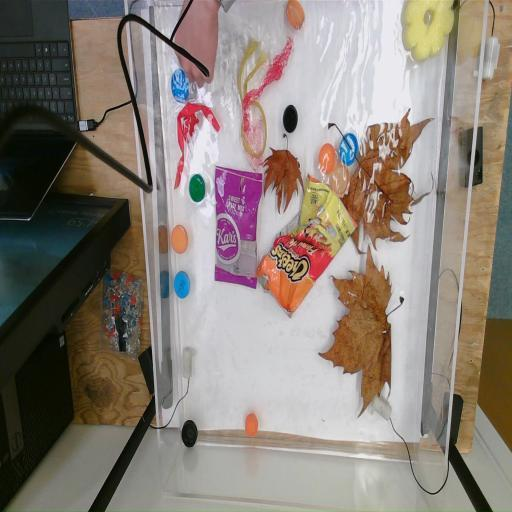Bottle Cap: (339, 132, 359, 166), (330, 162, 350, 196), (318, 144, 336, 177), (286, 0, 305, 30), (172, 68, 188, 102), (171, 225, 188, 254), (282, 104, 298, 134), (189, 174, 206, 202), (174, 271, 190, 299), (182, 421, 198, 448), (244, 412, 258, 436)
Cone Cap: (183, 114, 200, 143)
Leaf: (342, 102, 436, 254), (318, 244, 394, 418), (263, 143, 302, 216)
Netting: (244, 38, 294, 127), (242, 118, 266, 168)
Plastic Bag: (259, 171, 357, 317), (214, 164, 260, 293)
Plastic Strand: (174, 102, 220, 188), (235, 38, 267, 158)
Sponge: (402, 0, 454, 63)
